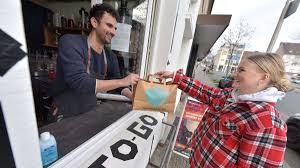Caution: (56, 3, 287, 167)
